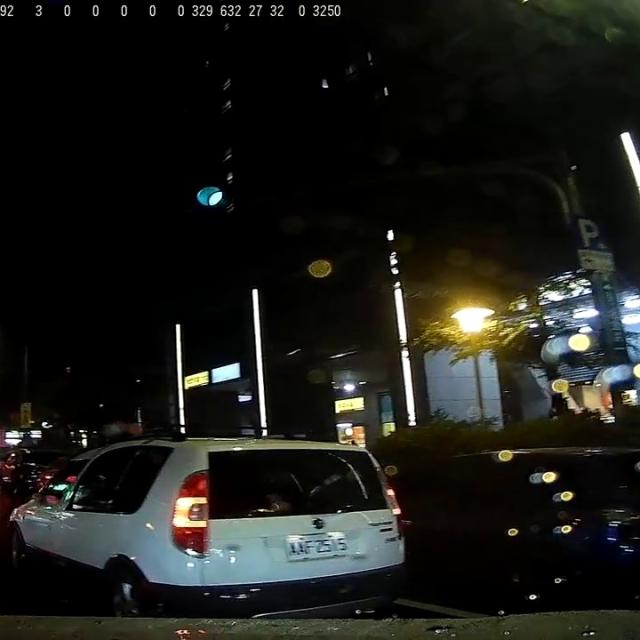Car: (1, 436, 402, 616)
